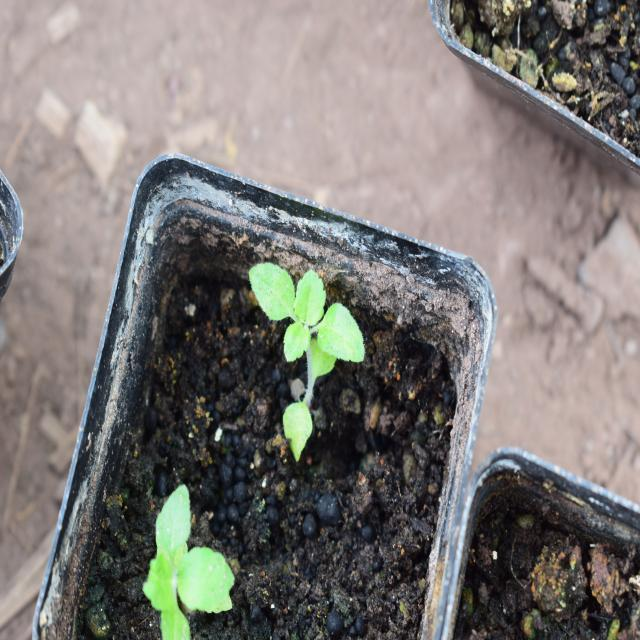billygoat_weed: (240, 270, 379, 440), (132, 471, 244, 626)
